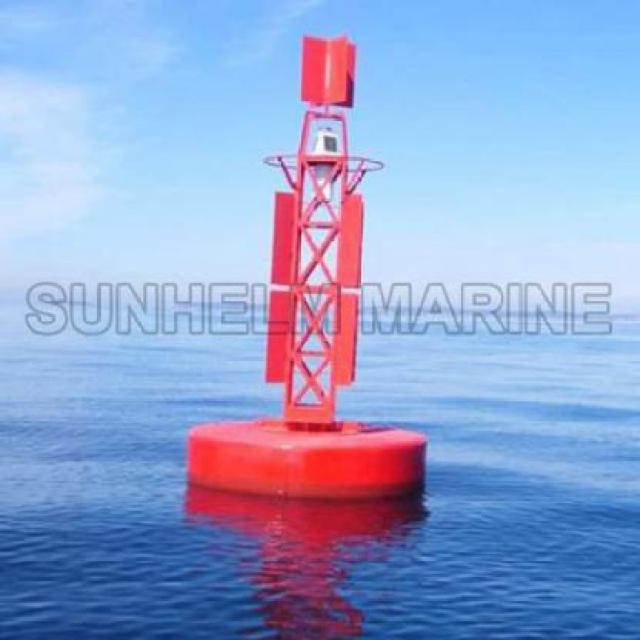a: (155, 16, 450, 510)
